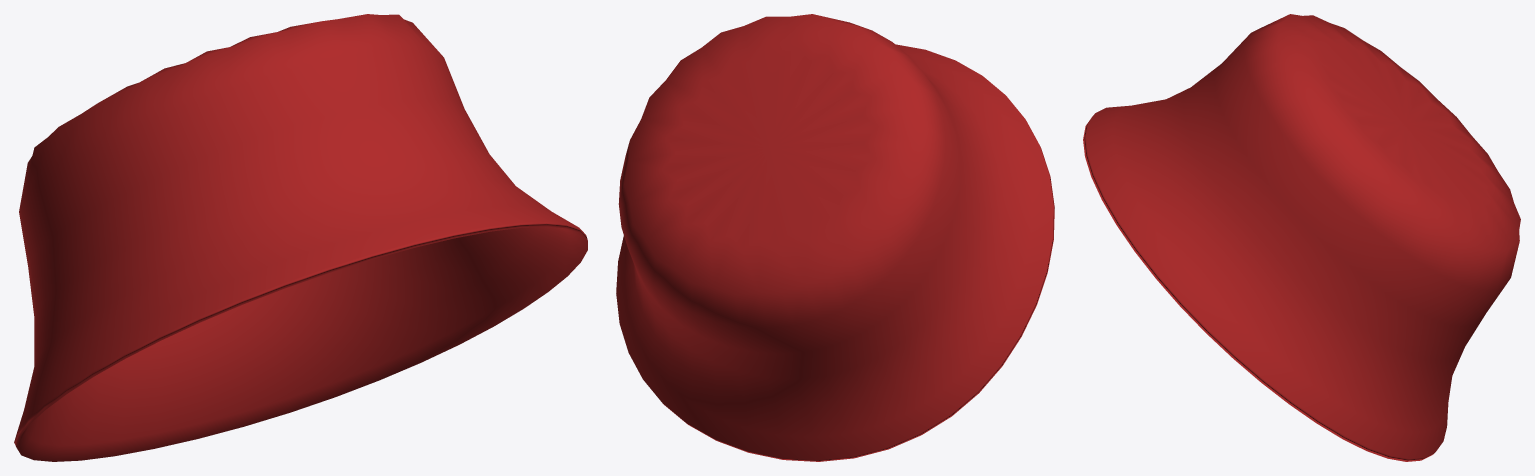
File: BucketHat.fbx
3 views of the same model, side by side, from view 1: azimuth 30°, elevation 25°; view 2: azimuth 150°, elevation 25°; view 3: azimuth 270°, elevation 25° (orthographic). The views are drawn at different scales.
Parts seen in each view (by area): view 1: pCylinder1; view 2: pCylinder1; view 3: pCylinder1.
Part boxes in pixels (x1=…): pCylinder1: x1=14, y1=14, x2=587, y2=461; pCylinder1: x1=616, y1=14, x2=1054, y2=461; pCylinder1: x1=1083, y1=14, x2=1520, y2=461.
Size of the model in its own units: 2.27 by 2.04 by 2.06.
